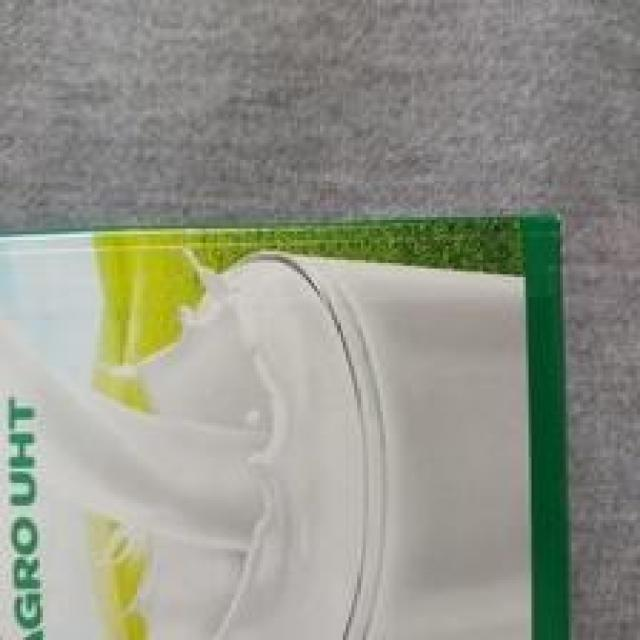Carton: (0, 211, 569, 640)
